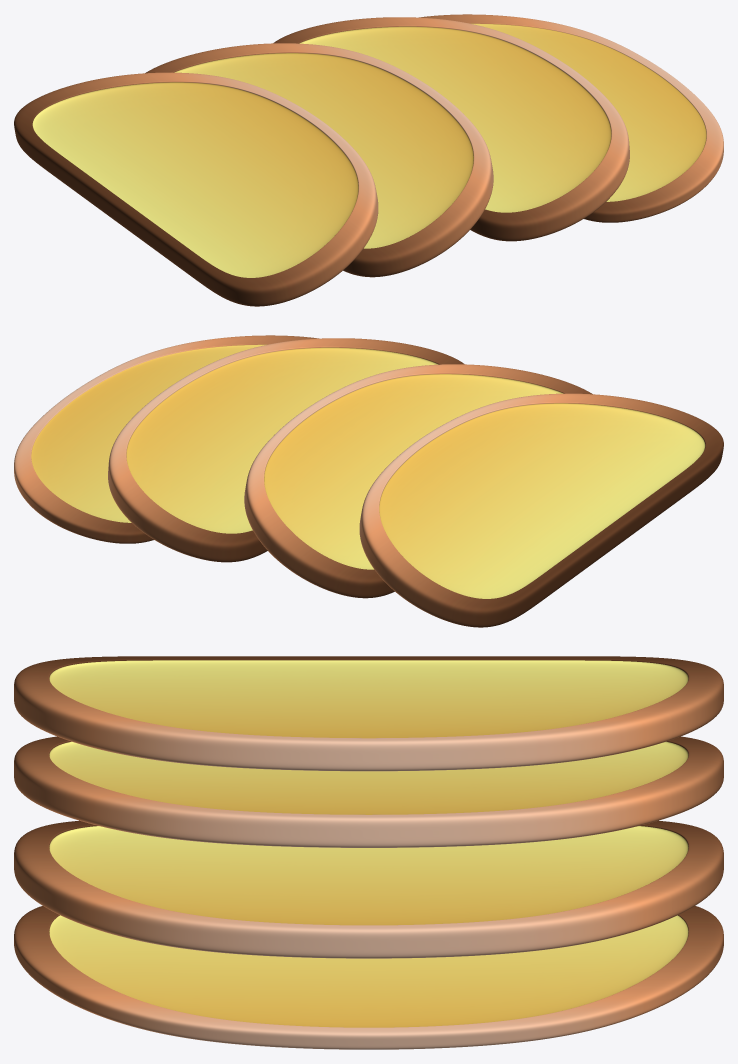
File: HH_ChoppedChicken.fbx
3 renders of one model, top to bottom at view 1: azimuth 30°, elevation 25°; view 2: azimuth 150°, elevation 25°; view 3: azimuth 270°, elevation 25°, orthographic. The views are drawn at different scales.
Parts seen in each view (by area): view 1: ChoppedChicken; view 2: ChoppedChicken; view 3: ChoppedChicken.
Part boxes in pixels (left/top/right/bottom): ChoppedChicken: left=14, top=14, right=723, bottom=306; ChoppedChicken: left=14, top=335, right=723, bottom=627; ChoppedChicken: left=14, top=656, right=723, bottom=1049.
Bounding box in the file's own units: 49.98 × 4.99 × 39.84.
Materials: 1 (1 with a texture image).
